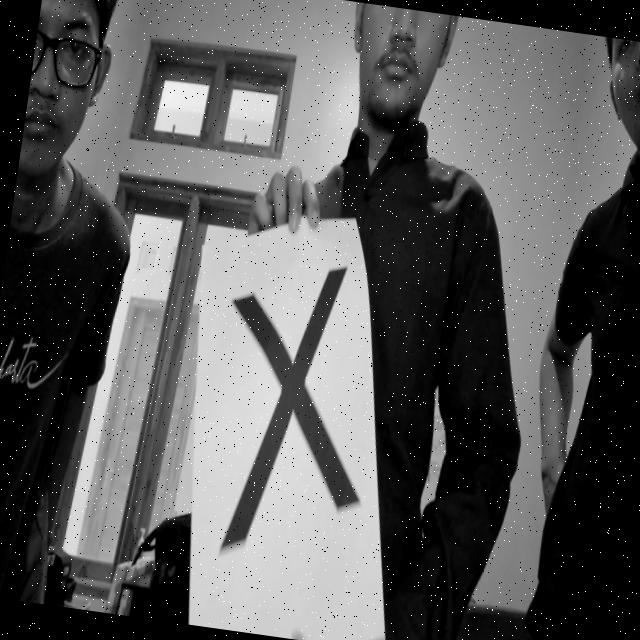x: (188, 246, 404, 580)
